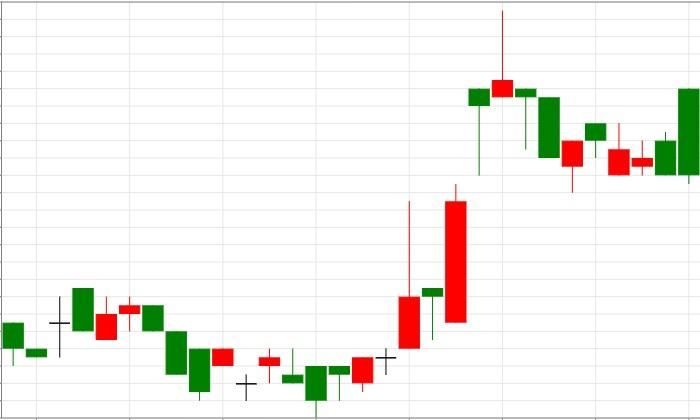shooting_star_fall: (352, 9, 513, 391)
